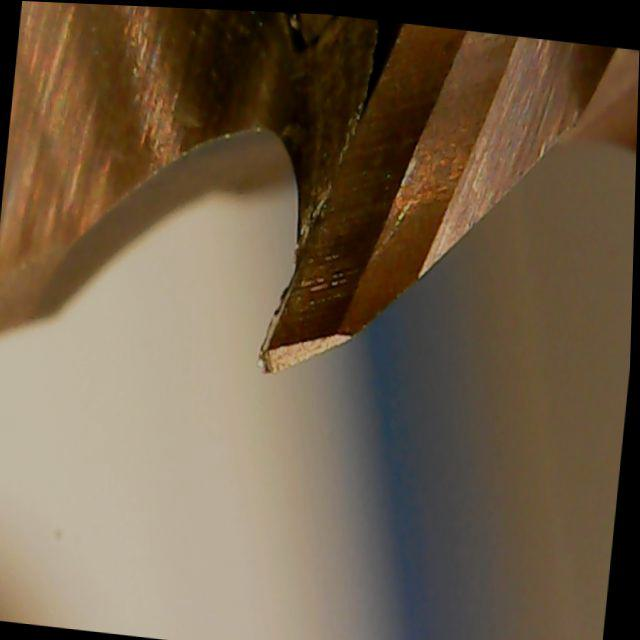Tool-wear-class-1: (249, 51, 444, 405)
